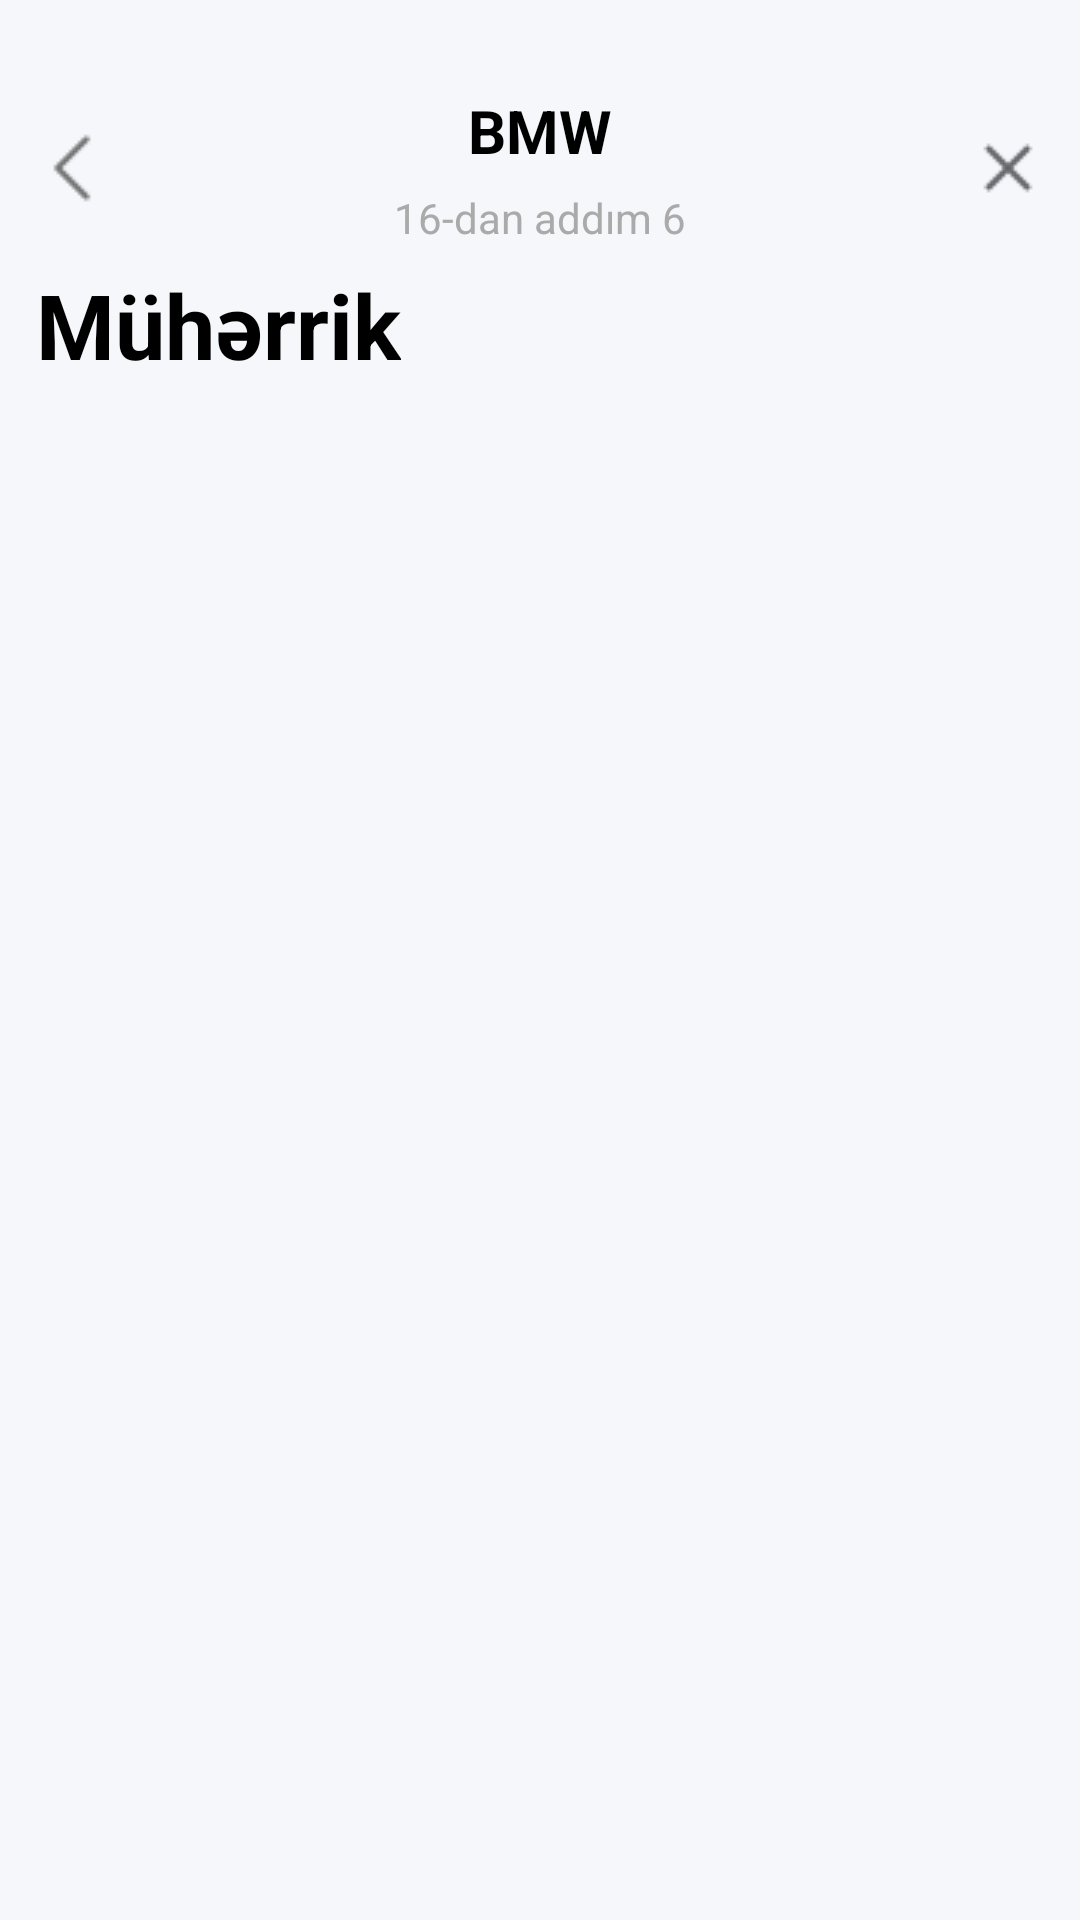

Named icons in this screenshot (1080×1920) and their bounding boxes, {"left": x1, "top": y1, "right": x2, "bottom": y2}:
back: {"left": 53, "top": 135, "right": 91, "bottom": 201}
cancel: {"left": 984, "top": 144, "right": 1032, "bottom": 192}
